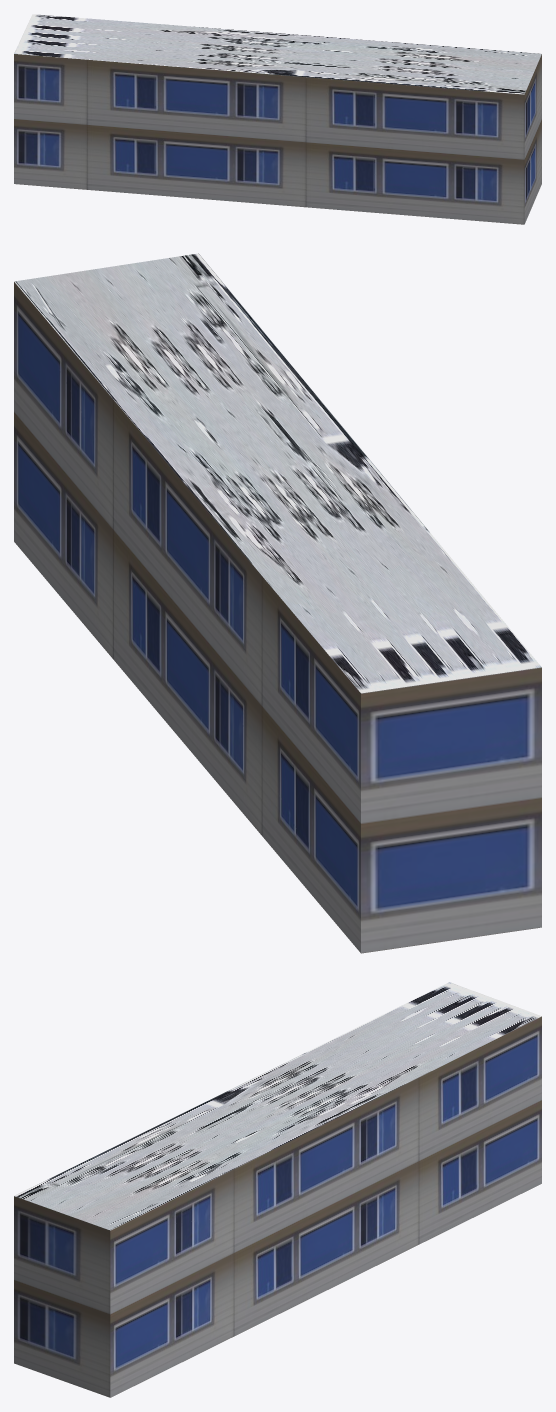
Rendered from ResTex__4739.fbx.
3 renders of one model, top to bottom at view 1: azimuth 30°, elevation 25°; view 2: azimuth 150°, elevation 25°; view 3: azimuth 270°, elevation 25°, orthographic. The views are drawn at different scales.
Parts seen in each view (by area): view 1: CityEngineMaterial_23_m, CityEngineMaterial_8_m; view 2: CityEngineMaterial_23_m, CityEngineMaterial_8_m; view 3: CityEngineMaterial_23_m, CityEngineMaterial_8_m.
Part boxes in pixels (x1=…): CityEngineMaterial_23_m: x1=14, y1=54, x2=541, y2=224; CityEngineMaterial_8_m: x1=14, y1=14, x2=541, y2=94; CityEngineMaterial_23_m: x1=14, y1=282, x2=541, y2=953; CityEngineMaterial_8_m: x1=14, y1=253, x2=541, y2=693; CityEngineMaterial_23_m: x1=14, y1=1016, x2=541, y2=1397; CityEngineMaterial_8_m: x1=14, y1=982, x2=541, y2=1230.
Bounding box in the file's own units: 19.11 × 6 × 17.16.
2 materials, 2 textured.
